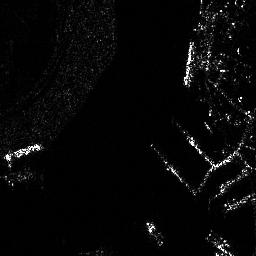ship: (3, 143, 44, 161), (206, 230, 233, 256), (182, 40, 196, 88), (225, 193, 256, 212), (146, 220, 164, 246)
